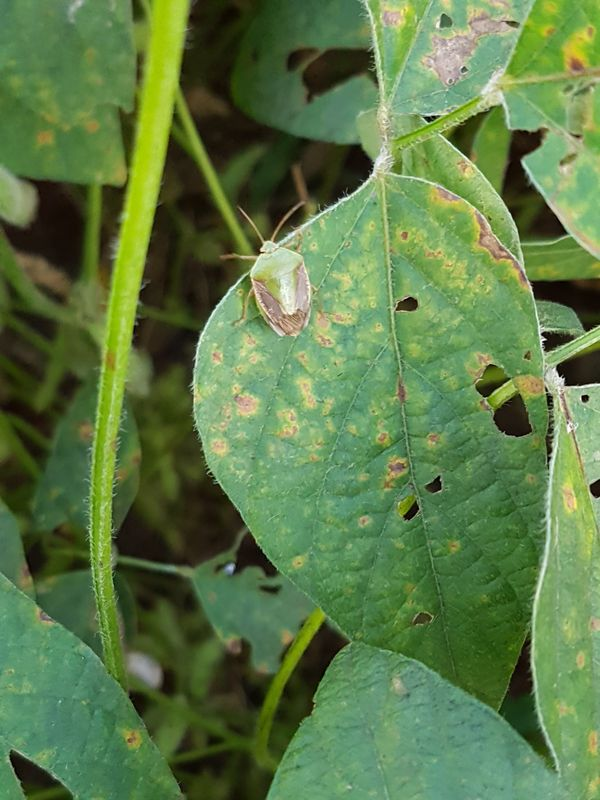Edessa_meditabunda: (208, 197, 330, 349)
